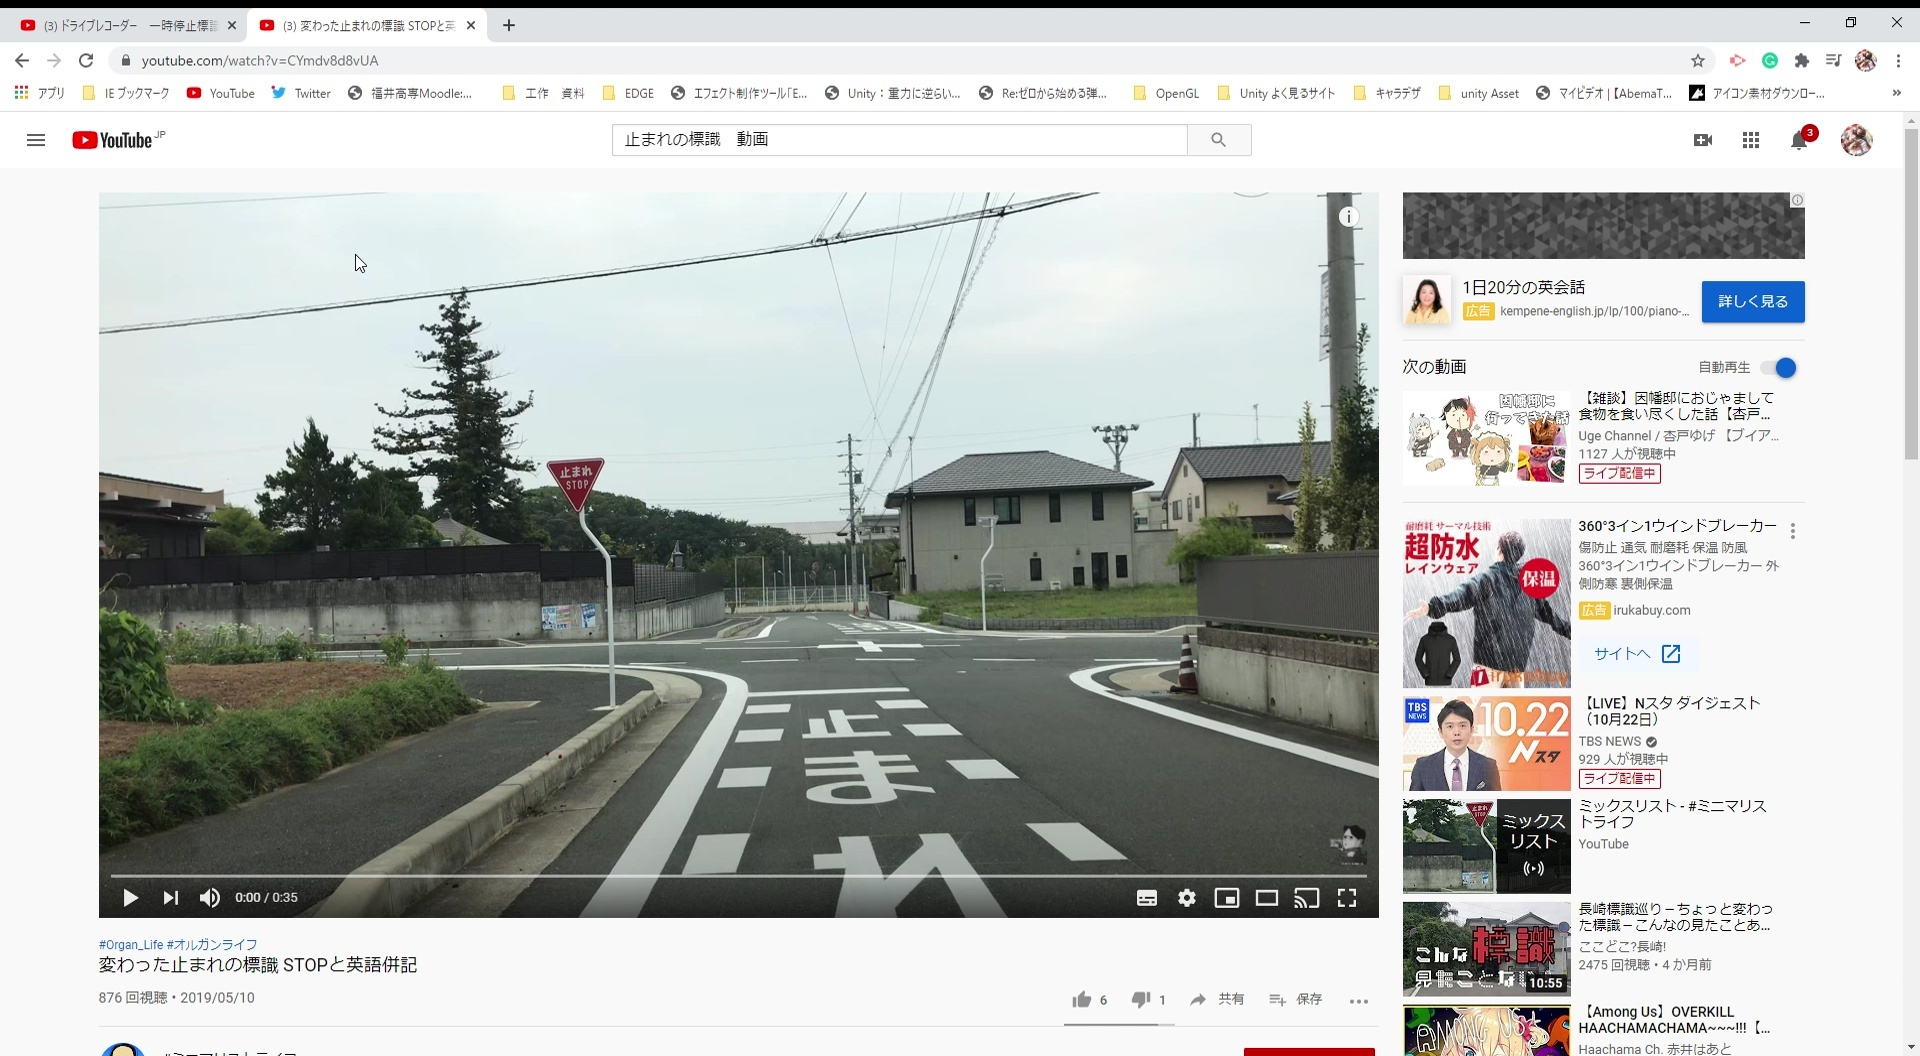Regulatory_sign_triangle: (1316, 447, 1377, 519), (542, 453, 612, 512)
